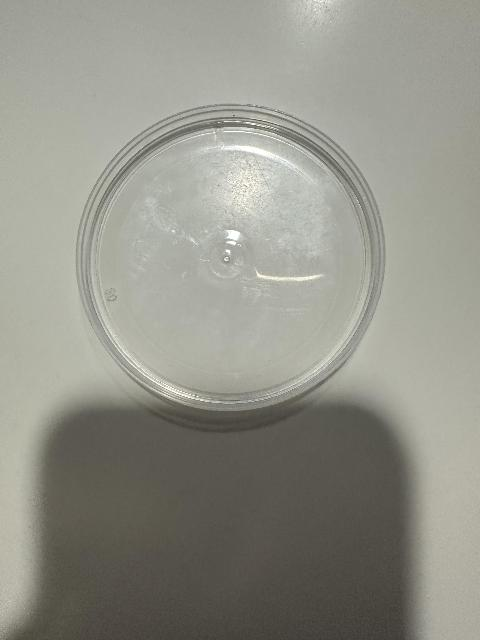Plastik: (79, 111, 389, 421)
